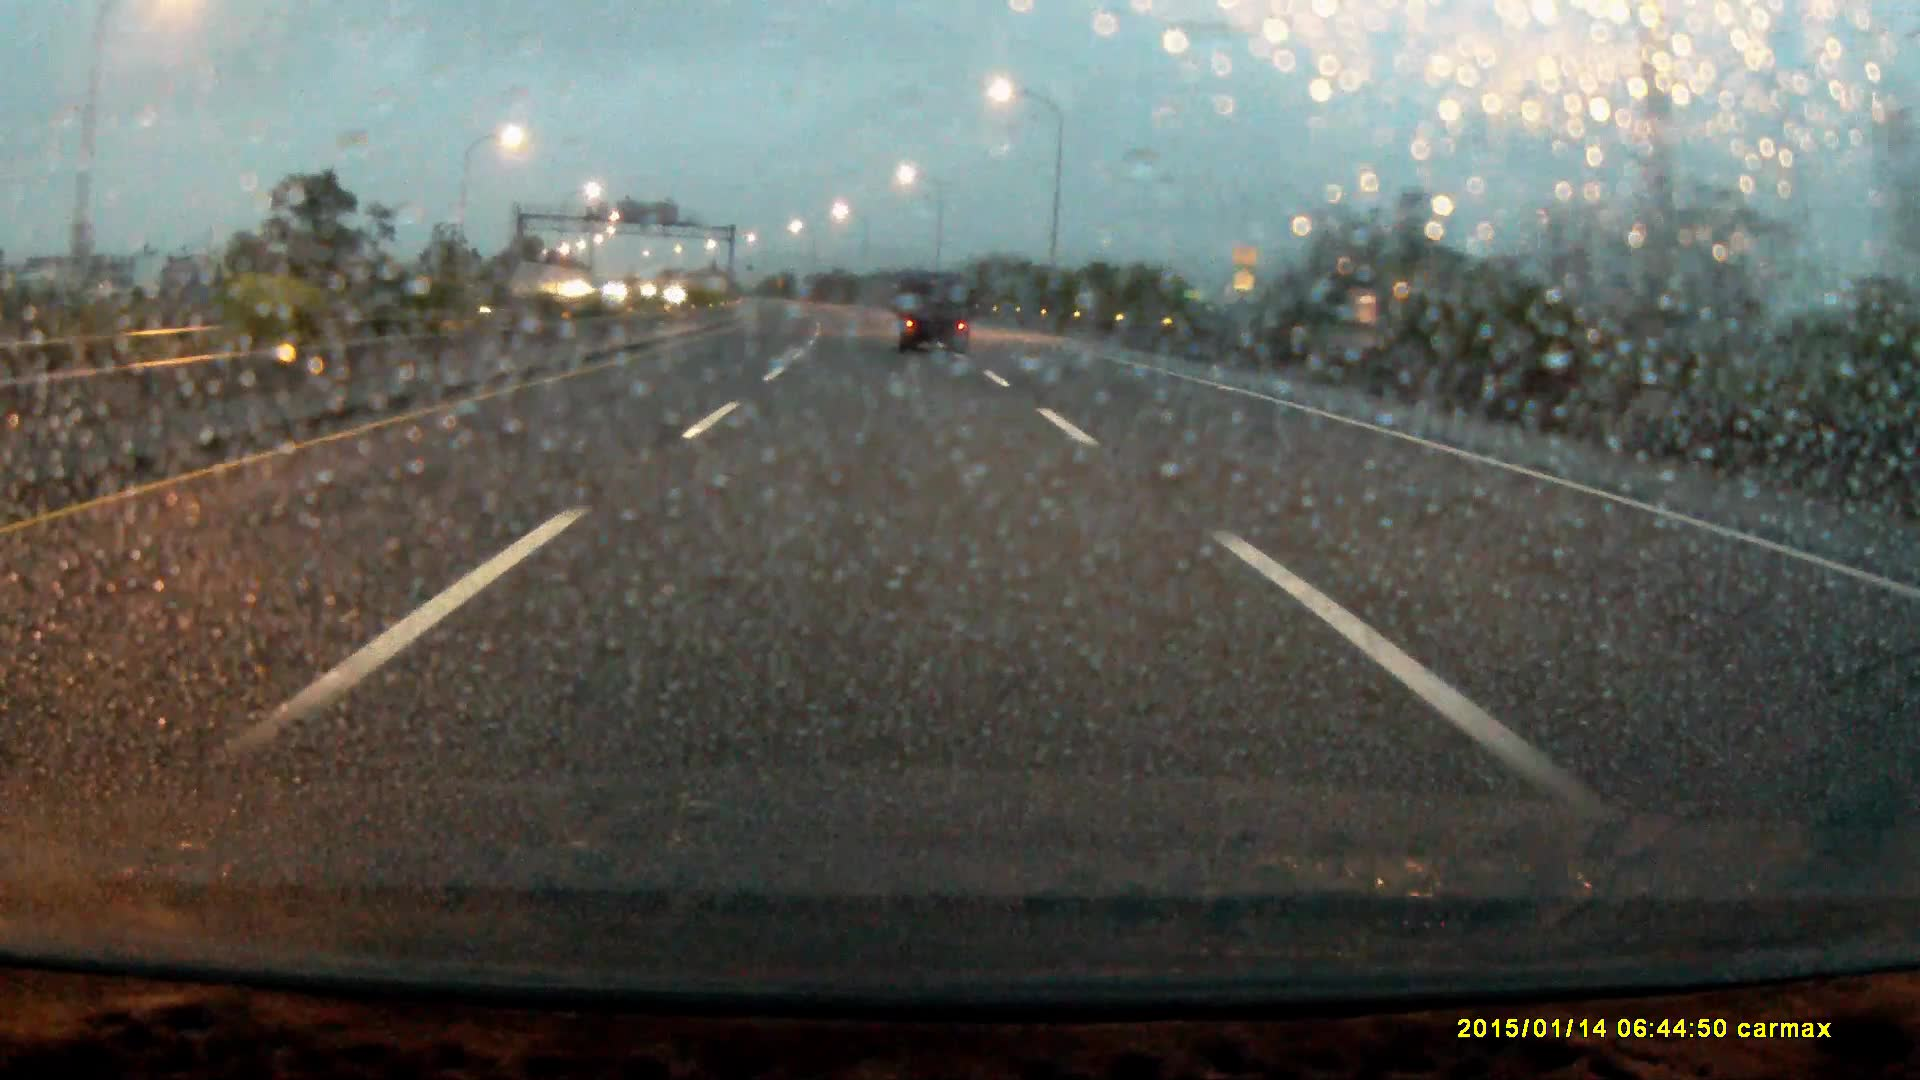vehicle: (898, 272, 973, 355)
